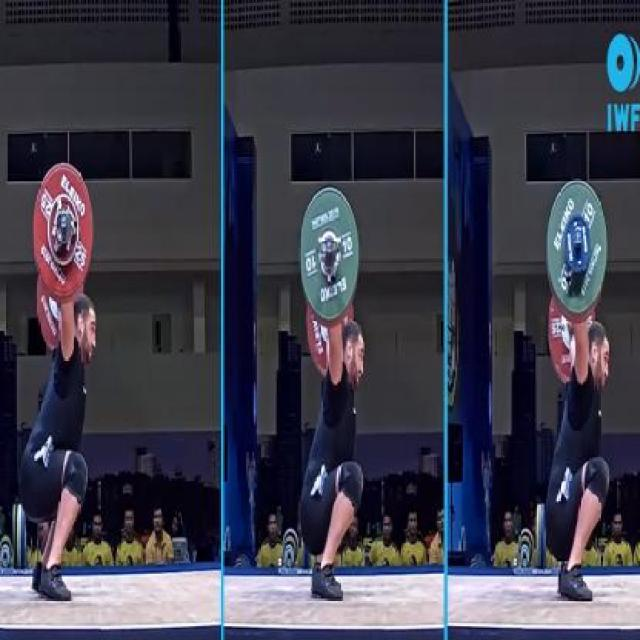barbell: (540, 174, 614, 323), (31, 152, 100, 306), (295, 179, 364, 333)
